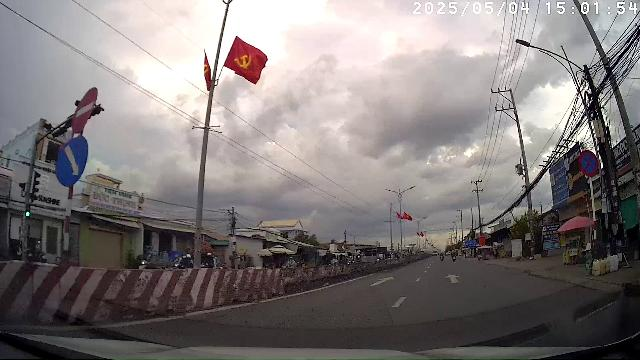102-cam-di-nguoc-chieu: (72, 88, 100, 134)
130-cam-dung-va-do-xe: (580, 150, 598, 176)
302a-huong-phai-di-vong-chuong-ngai-vat-1: (56, 137, 88, 185)
